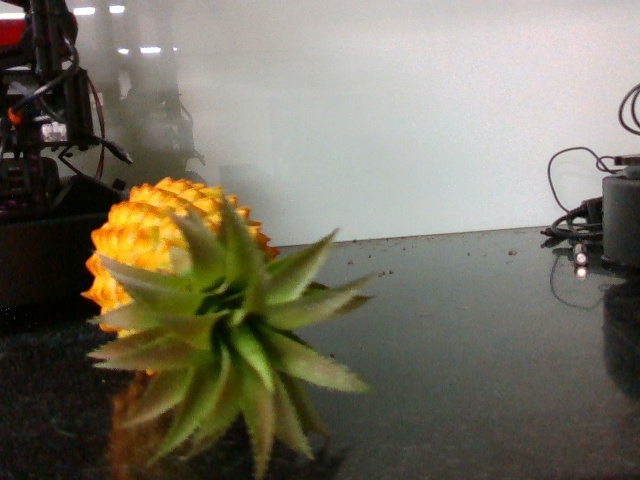pineapple: (82, 173, 367, 461)
